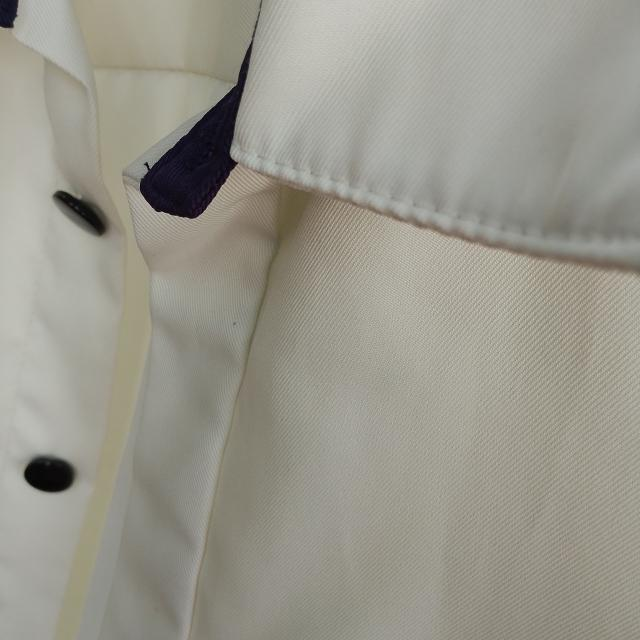education_male_uniform: (3, 1, 486, 594)
